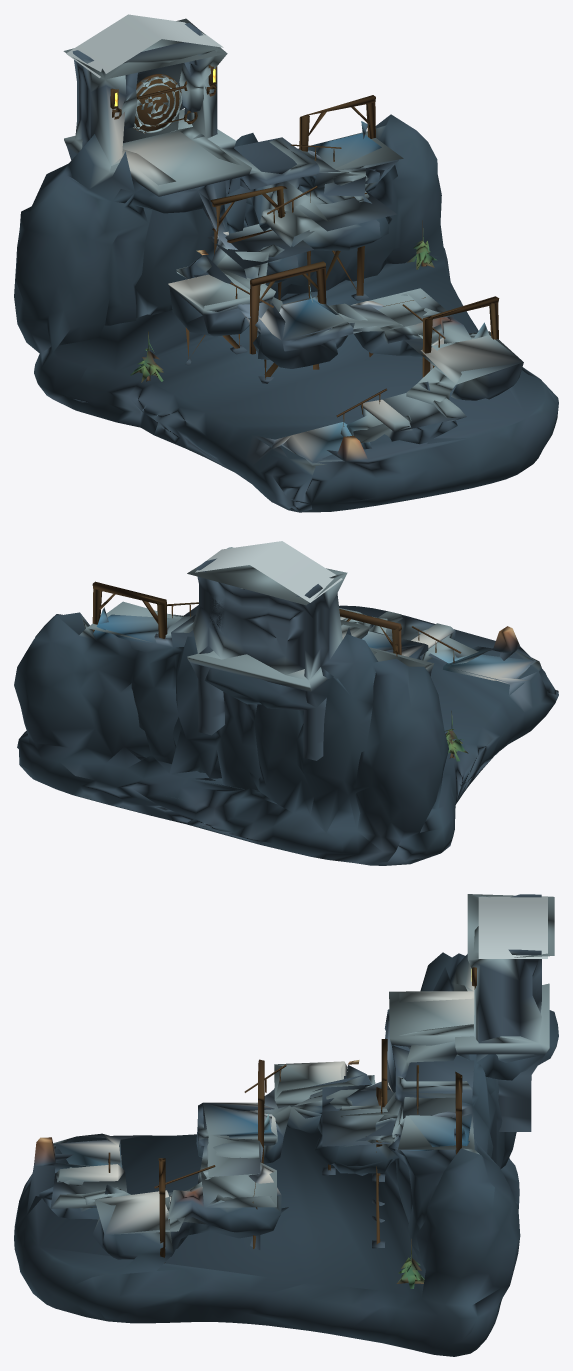
The model's file is hibern.far.glb.
3 renders of one model, top to bottom at view 1: azimuth 30°, elevation 25°; view 2: azimuth 150°, elevation 25°; view 3: azimuth 270°, elevation 25°, orthographic. The views are drawn at different scales.
Parts seen in each view (by area): view 1: static_mineral, static_organic, static_metal; view 2: static_mineral, static_organic; view 3: static_mineral, static_organic, static_metal.
Boxes of the visible parts, <box> form: static_mineral: <box>14,18,558,512</box>; static_organic: <box>66,14,499,382</box>; static_metal: <box>110,65,445,426</box>; static_mineral: <box>14,547,558,865</box>; static_organic: <box>92,541,468,761</box>; static_mineral: <box>14,894,558,1356</box>; static_organic: <box>158,896,547,1288</box>; static_metal: <box>108,967,476,1188</box>.
Size of the model in its own units: 20.8 by 14.31 by 22.05.
